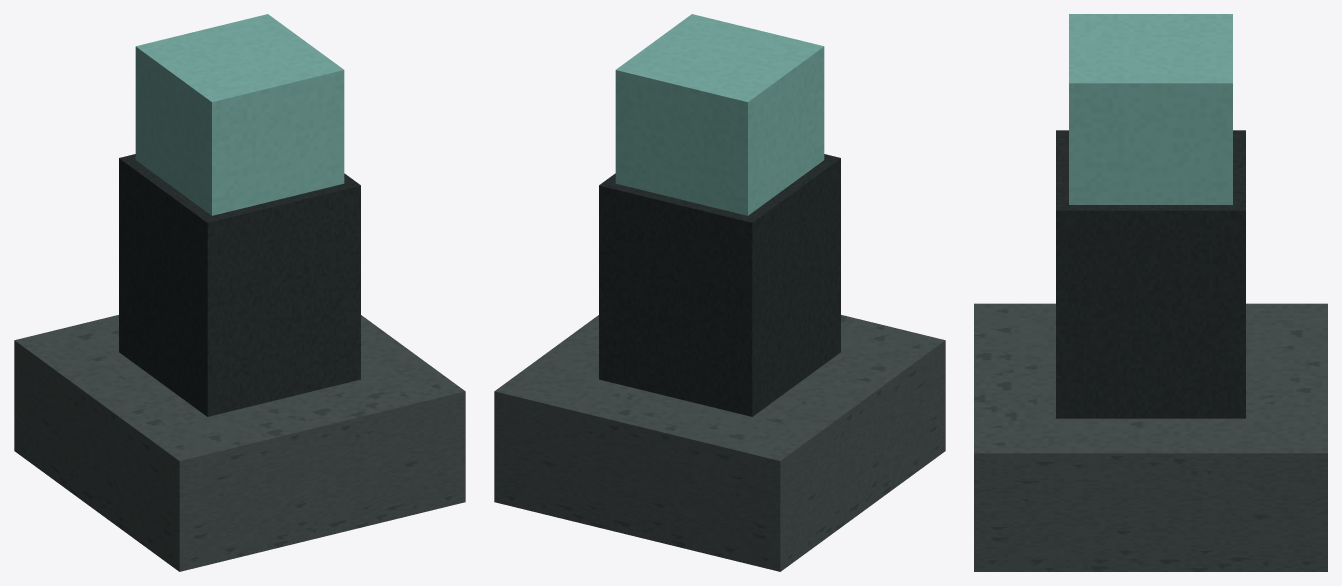
File: DockBeacon.fbx
3 views of the same model, side by side, from view 1: azimuth 30°, elevation 25°; view 2: azimuth 150°, elevation 25°; view 3: azimuth 270°, elevation 25° (orthographic). The views are drawn at different scales.
Visible parts, largest first — view 1: DockBeacon; view 2: DockBeacon; view 3: DockBeacon.
Part boxes in pixels (bbox=[...]): DockBeacon: bbox=[14, 14, 465, 571]; DockBeacon: bbox=[494, 14, 945, 571]; DockBeacon: bbox=[974, 14, 1327, 571].
Bounding box in the file's own units: 54 × 75.5 × 54.
